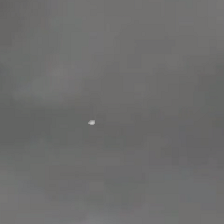Target: (88, 120, 95, 125)
